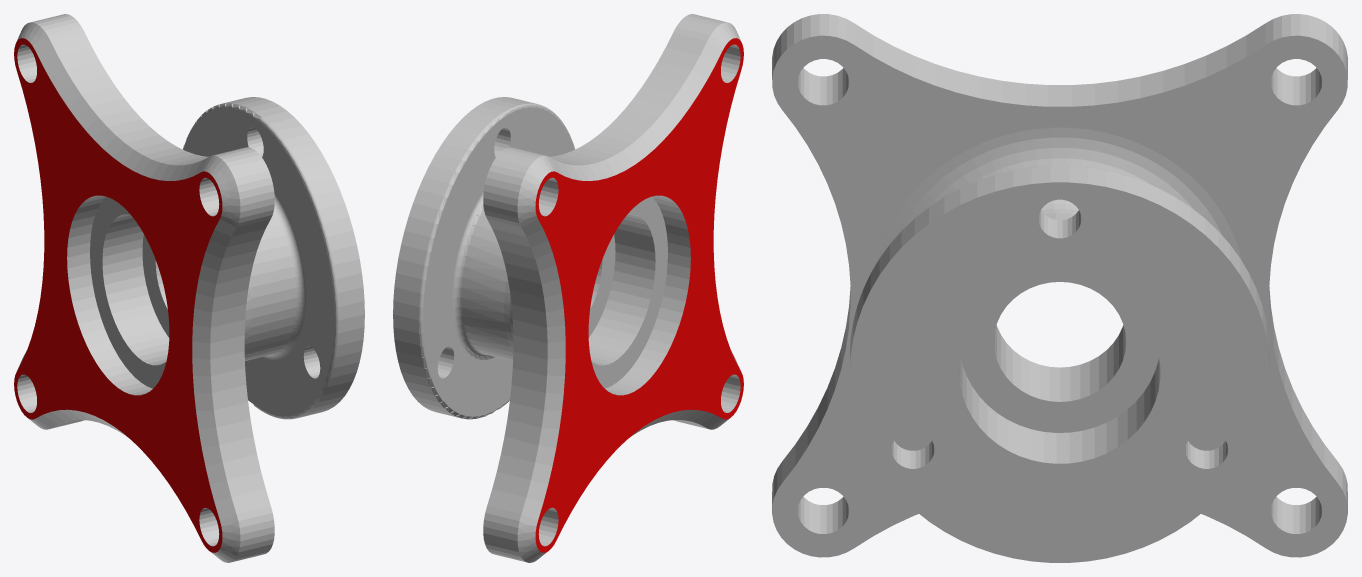
File: Cubo_Dianteiro_stp_2.obj
3 views of the same model, side by side, from view 1: azimuth 30°, elevation 25°; view 2: azimuth 150°, elevation 25°; view 3: azimuth 270°, elevation 25° (orthographic). The views are drawn at different scales.
Parts seen in each view (by area): view 1: Object1; view 2: Object1; view 3: Object1.
Part boxes in pixels (bbox=[...]): Object1: bbox=[14, 14, 364, 562]; Object1: bbox=[393, 14, 743, 562]; Object1: bbox=[772, 14, 1347, 562].
Bounding box in the file's own units: 58 × 134 × 134.
